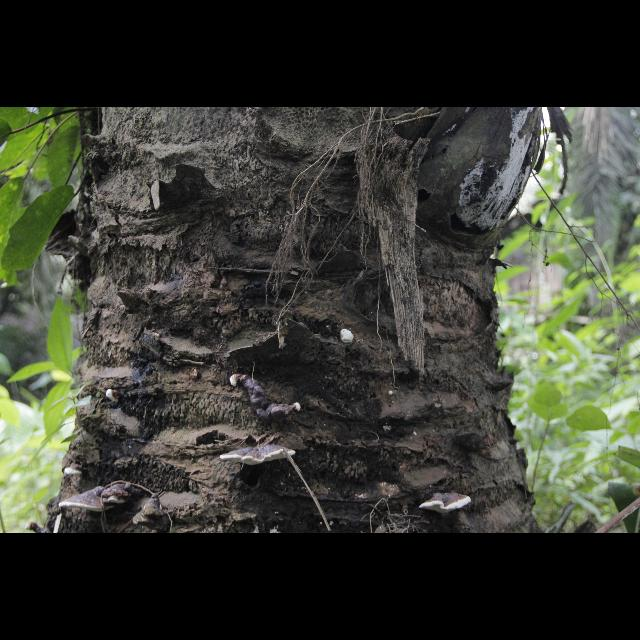ganoderma: (242, 375, 293, 425), (221, 445, 298, 467), (60, 487, 116, 514), (420, 494, 473, 515), (102, 484, 146, 505), (66, 467, 89, 478)
primordium: (341, 330, 355, 344), (108, 391, 123, 404), (231, 375, 241, 388), (26, 523, 38, 533), (293, 404, 302, 414), (390, 392, 395, 397)
